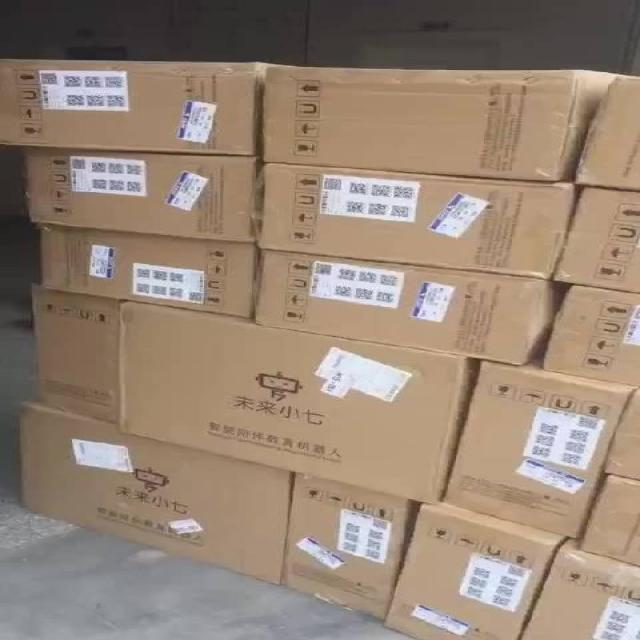box: (119, 305, 479, 505), (19, 403, 292, 586), (264, 68, 627, 180), (260, 163, 579, 282), (248, 249, 565, 367), (436, 356, 637, 539), (0, 58, 269, 157), (385, 504, 567, 639), (20, 146, 260, 245), (281, 472, 424, 621), (41, 224, 256, 321), (31, 284, 123, 425), (519, 537, 639, 638), (539, 284, 640, 385), (551, 186, 639, 294), (579, 77, 639, 191), (580, 473, 639, 566), (604, 388, 639, 479)
